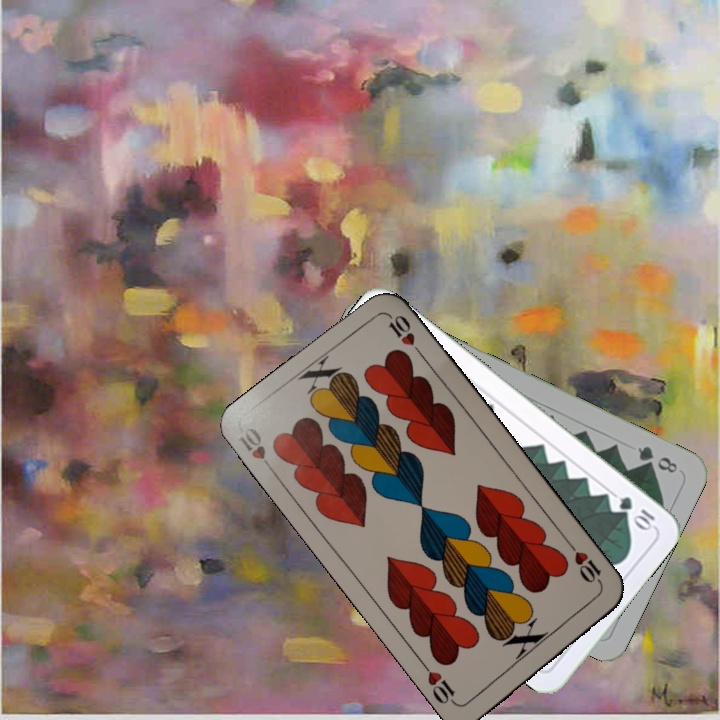G10: (615, 492, 658, 533)
G8: (633, 442, 680, 476)
H10: (235, 422, 278, 477), (565, 540, 606, 591)
